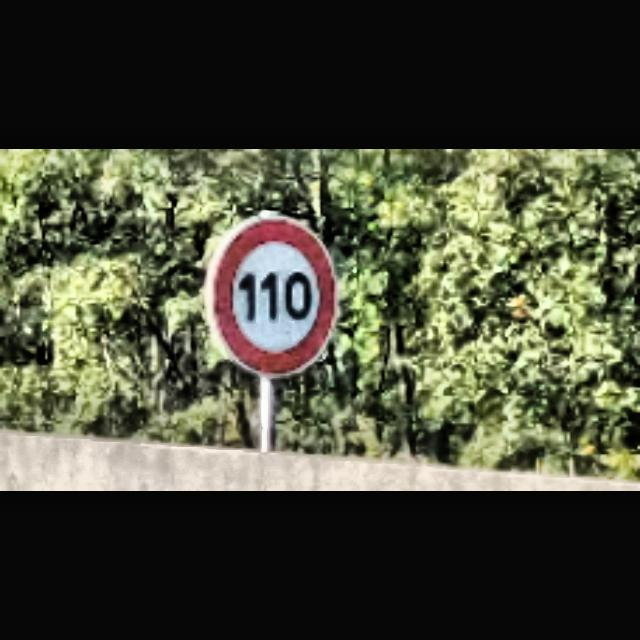speed_110: (206, 213, 340, 383)
